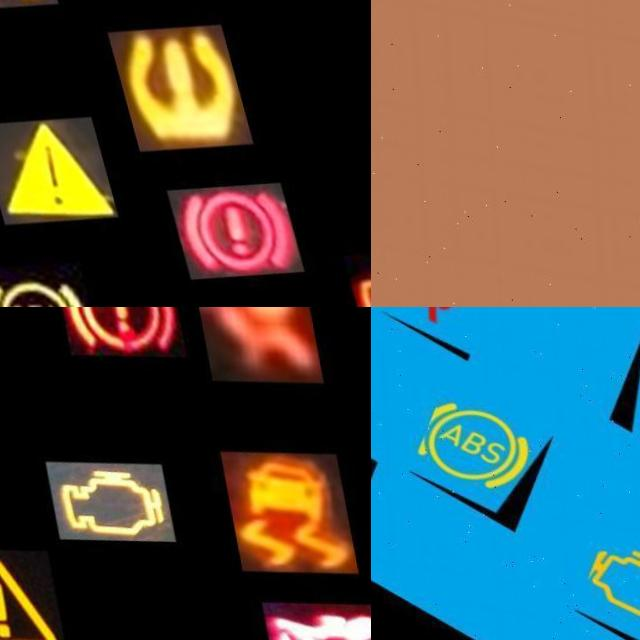Central Warning lamp: (0, 95, 115, 236), (0, 527, 63, 640)
